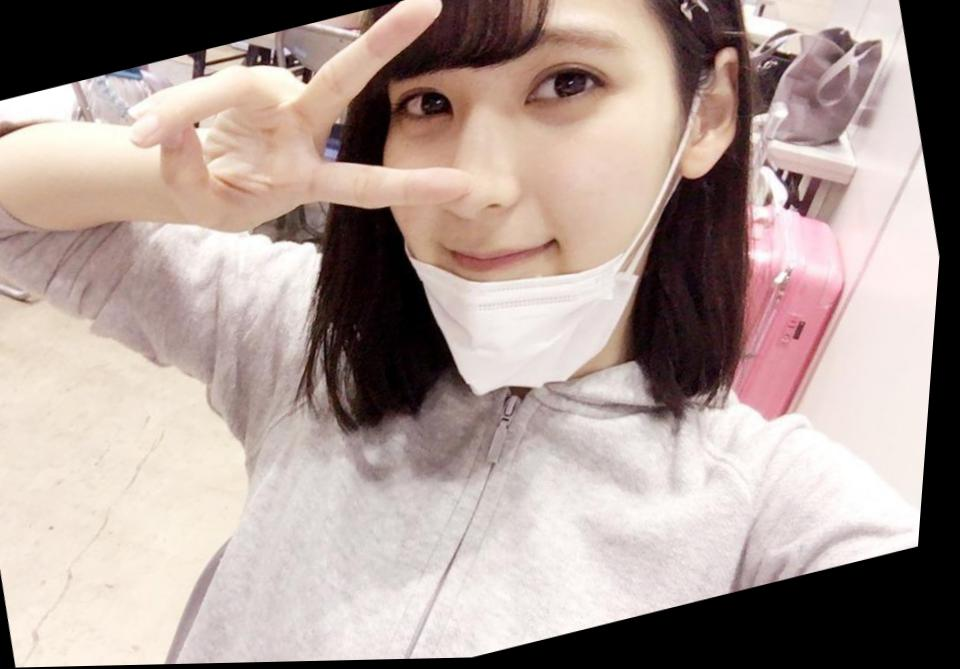WRONG: (335, 1, 737, 383)
